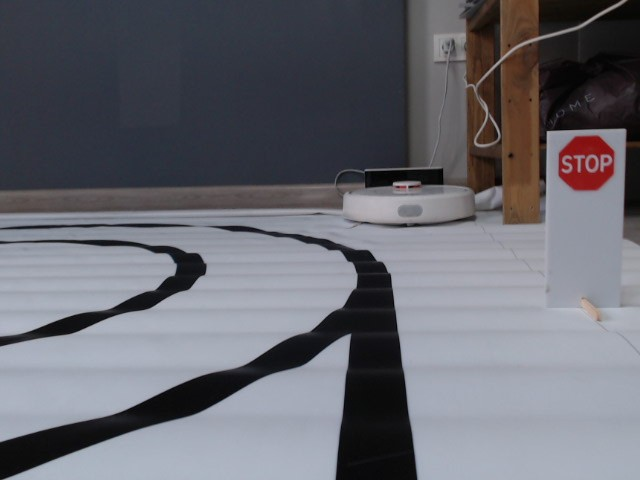Stop: (557, 133, 616, 193)
